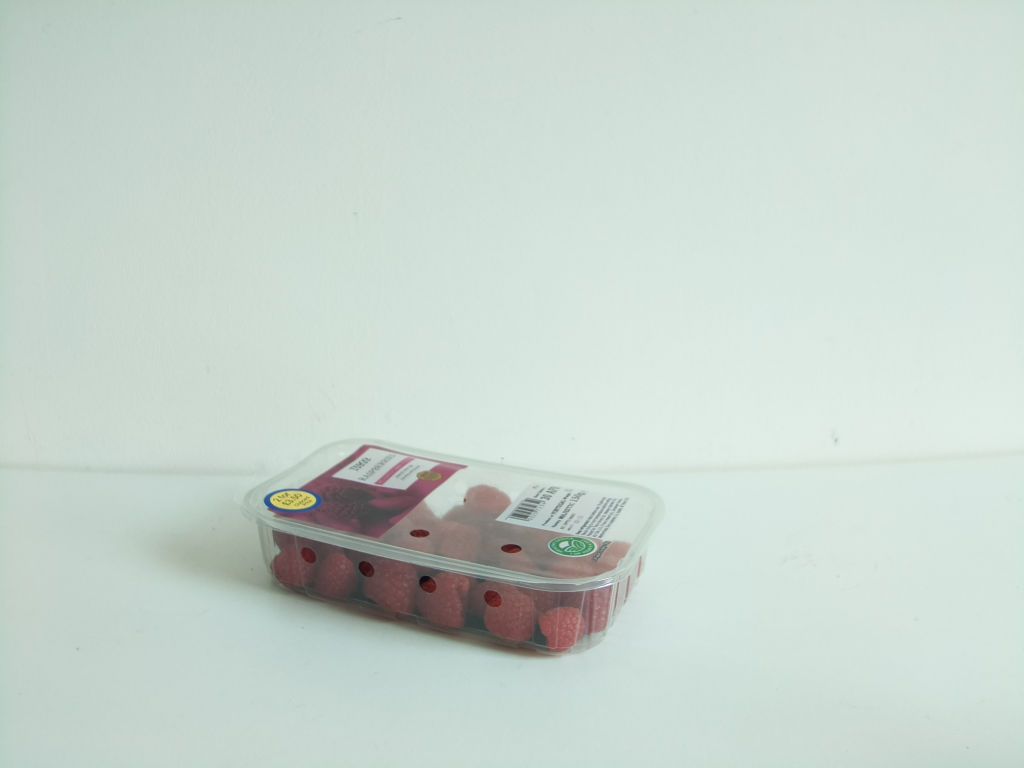soft-fruit: (261, 435, 656, 656)
